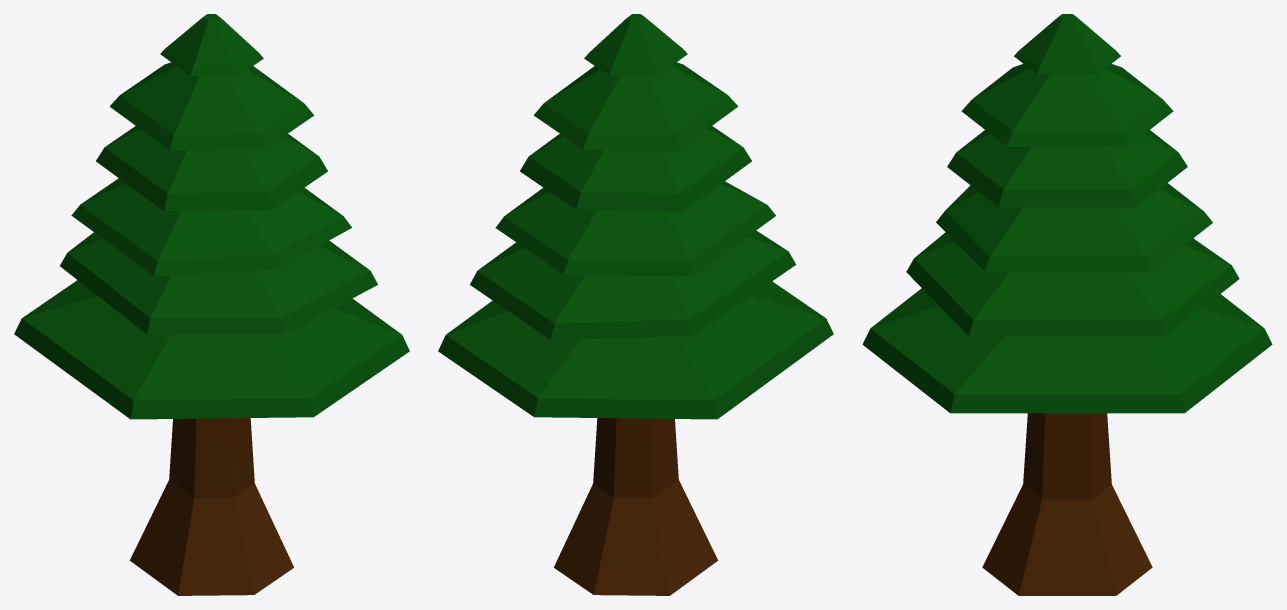
Rendered from _ree3.fbx.
3 renders of one model, left to right at view 1: azimuth 30°, elevation 25°; view 2: azimuth 150°, elevation 25°; view 3: azimuth 270°, elevation 25°, orthographic.
Parts seen in each view (by area): view 1: Cube; view 2: Cube; view 3: Cube.
Boxes of the visible parts, x1,y1,x2,y2 form: Cube: [14, 14, 409, 595]; Cube: [438, 14, 833, 595]; Cube: [862, 14, 1272, 595].
Size of the model in its own units: 709 by 1325 by 894.
